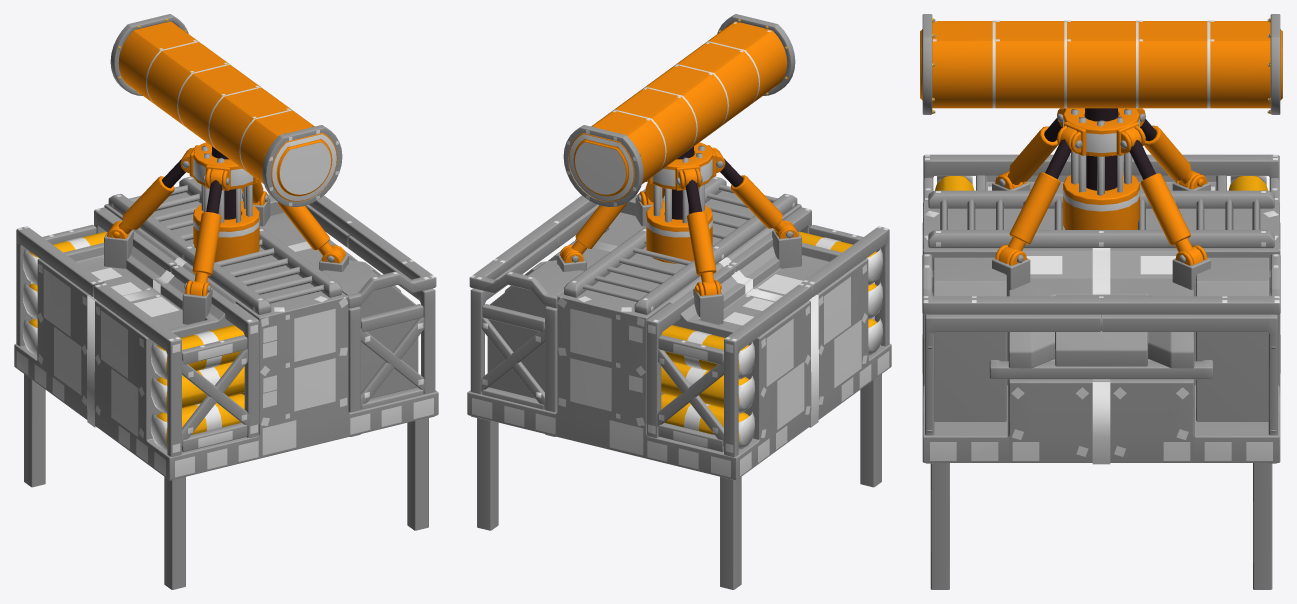
File: CipherPlatform_Straight.fbx
3 views of the same model, side by side, from view 1: azimuth 30°, elevation 25°; view 2: azimuth 150°, elevation 25°; view 3: azimuth 270°, elevation 25° (orthographic). The views are drawn at different scales.
Visible parts, largest first — view 1: Cube.086, Cube.089, Cylinder.009, Cube.092, Cube.090, Cylinder.011, StylizedHardSurface_Decals_017.003_projected.001, StylizedHardSurface_Decals_017.004_projected.001, StylizedHardSurface_Decals_054.003_projected.001, StylizedHardSurface_Decals_054.004_projected.001, StylizedHardSurface_Panels_006.001, StylizedHardSurface_Decals_048.001_projected.001 (+10 smaller); view 2: Cube.086, Cube.089, Cylinder.009, Cube.092, Cube.090, Cylinder.011, StylizedHardSurface_Decals_017.003_projected.001, StylizedHardSurface_Decals_017.004_projected.001, StylizedHardSurface_Decals_054.003_projected.001, StylizedHardSurface_Decals_054.004_projected.001, StylizedHardSurface_Panels_006.001, StylizedHardSurface_Decals_048.001_projected.001 (+10 smaller); view 3: Cube.086, Cylinder.009, Cube.089, Cube.092, Cube.090, StylizedHardSurface_Panels_006.001, Cylinder.011, StylizedHardSurface_Decals_056.068_projected.001, StylizedHardSurface_Panels_008.005, StylizedHardSurface_Decals_040.007_projected.001, StylizedHardSurface_Decals_040.008_projected.001, StylizedHardSurface_Decals_040.006_projected.001 (+2 smaller).
Part boxes in pixels (left/top/right/bottom): Cube.086: left=14, top=142, right=438, bottom=589; Cube.089: left=16, top=194, right=436, bottom=456; Cylinder.009: left=118, top=21, right=337, bottom=201; Cube.092: left=104, top=145, right=348, bottom=324; Cube.090: left=129, top=145, right=324, bottom=303; Cylinder.011: left=110, top=14, right=342, bottom=207; StylizedHardSurface_Decals_017.003_projected.001: left=23, top=248, right=167, bottom=449; StylizedHardSurface_Decals_017.004_projected.001: left=280, top=142, right=330, bottom=194; StylizedHardSurface_Decals_054.003_projected.001: left=294, top=308, right=335, bottom=361; StylizedHardSurface_Decals_054.004_projected.001: left=294, top=358, right=335, bottom=411; StylizedHardSurface_Panels_006.001: left=87, top=241, right=311, bottom=427; StylizedHardSurface_Decals_048.001_projected.001: left=43, top=268, right=70, bottom=336; Cube.086: left=467, top=142, right=891, bottom=589; Cube.089: left=469, top=181, right=889, bottom=456; Cylinder.009: left=568, top=21, right=787, bottom=201; Cube.092: left=557, top=145, right=801, bottom=324; Cube.090: left=583, top=145, right=777, bottom=302; Cylinder.011: left=563, top=14, right=795, bottom=207; StylizedHardSurface_Decals_017.003_projected.001: left=738, top=248, right=882, bottom=449; StylizedHardSurface_Decals_017.004_projected.001: left=575, top=142, right=625, bottom=194; StylizedHardSurface_Decals_054.003_projected.001: left=570, top=308, right=611, bottom=361; StylizedHardSurface_Decals_054.004_projected.001: left=570, top=358, right=611, bottom=411; StylizedHardSurface_Panels_006.001: left=593, top=241, right=818, bottom=427; StylizedHardSurface_Decals_048.001_projected.001: left=766, top=318, right=793, bottom=386; Cube.086: left=922, top=108, right=1280, bottom=589; Cylinder.009: left=920, top=21, right=1282, bottom=108; Cube.089: left=922, top=154, right=1280, bottom=463; Cube.092: left=992, top=108, right=1210, bottom=296; Cube.090: left=940, top=109, right=1260, bottom=229; StylizedHardSurface_Panels_006.001: left=1092, top=248, right=1110, bottom=464; Cylinder.011: left=922, top=14, right=1280, bottom=114; StylizedHardSurface_Decals_056.068_projected.001: left=1026, top=256, right=1175, bottom=274; StylizedHardSurface_Panels_008.005: left=992, top=20, right=1210, bottom=108; StylizedHardSurface_Decals_040.007_projected.001: left=971, top=442, right=1231, bottom=460; StylizedHardSurface_Decals_040.008_projected.001: left=1012, top=442, right=1190, bottom=460; StylizedHardSurface_Decals_040.006_projected.001: left=930, top=442, right=1272, bottom=460.
Size of the model in its own units: 1004 by 1517 by 1014.
